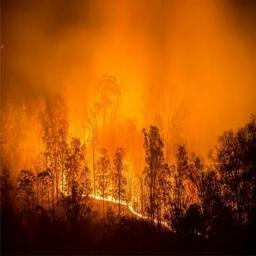Large fire: (1, 0, 256, 256)
